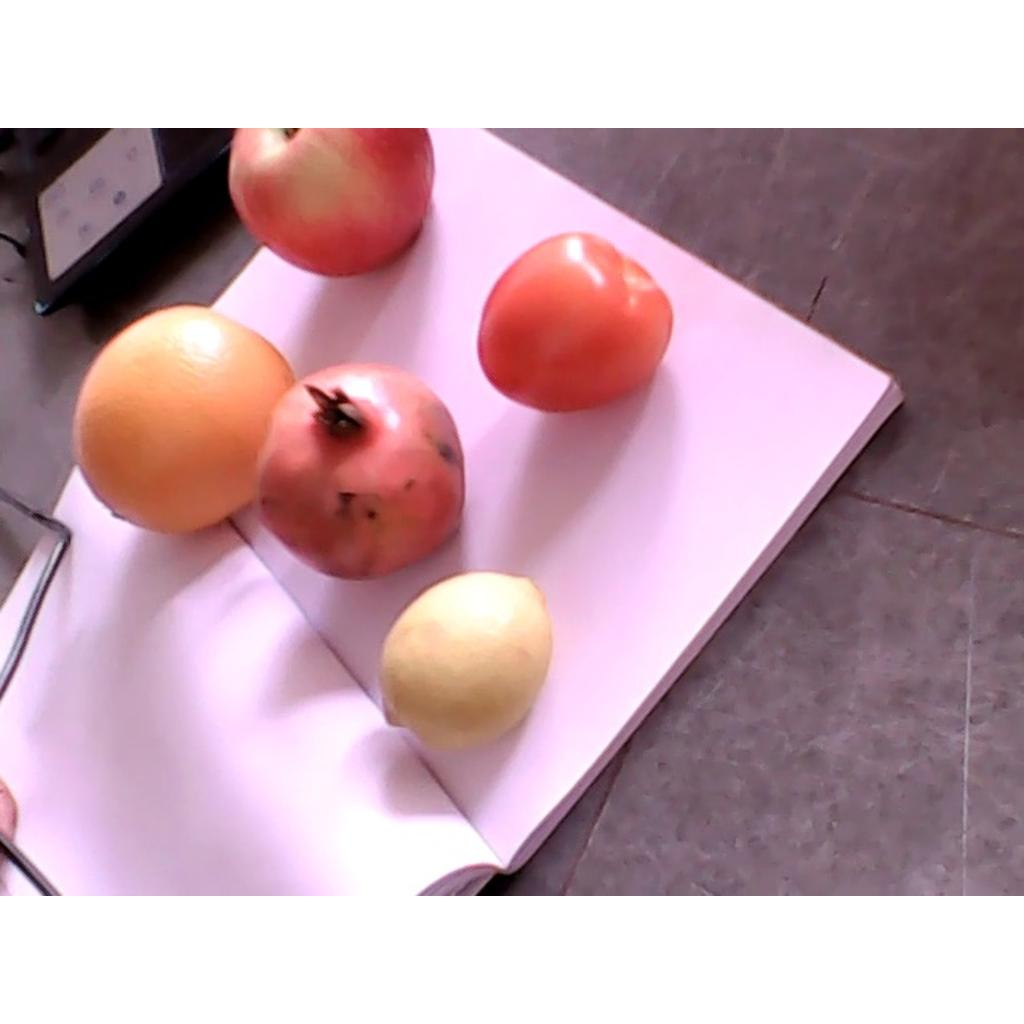lemon: (380, 568, 554, 752)
orange: (74, 304, 298, 531)
pomegranate: (250, 363, 466, 580), (229, 131, 438, 278)
tomato: (480, 233, 674, 411)
